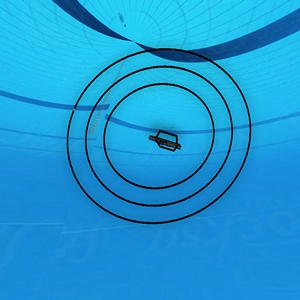circle: (64, 47, 252, 222)
submarine: (150, 127, 182, 153)
